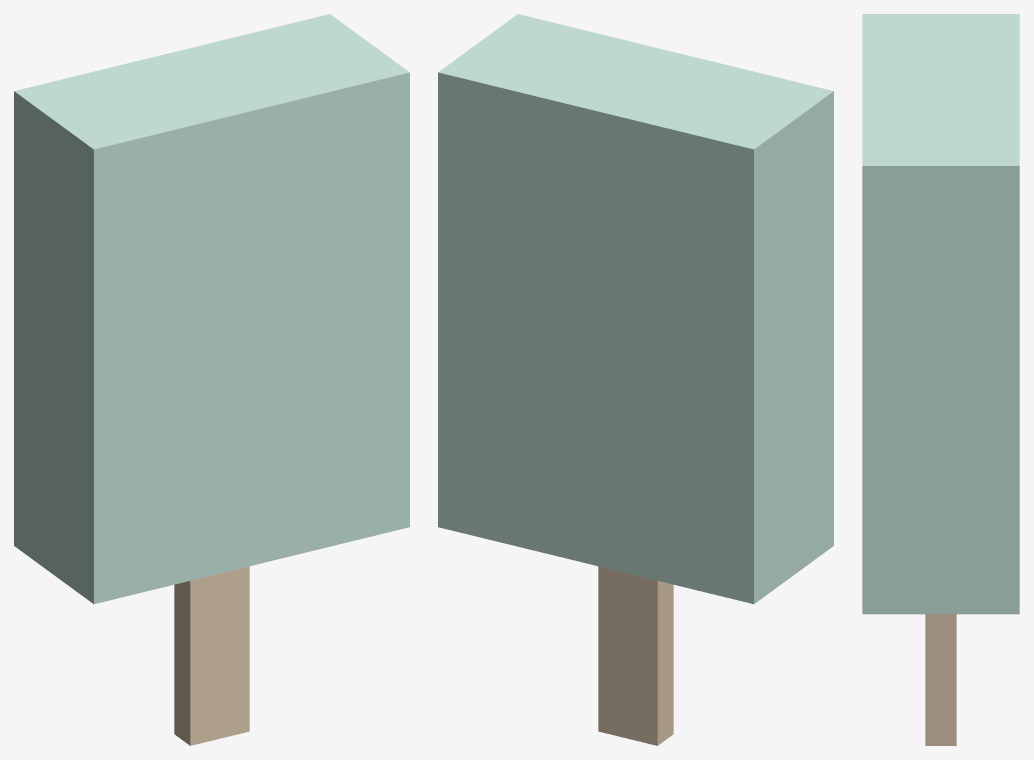
Rendered from popsicle.glb.
The picture shows the model from 3 angles, left to right: view 1: azimuth 30°, elevation 25°; view 2: azimuth 150°, elevation 25°; view 3: azimuth 270°, elevation 25°; orthographic projection.
Parts seen in each view (by area): view 1: popsicle; view 2: popsicle; view 3: popsicle.
Part boxes in pixels (<box>): popsicle: <box>14,14,409,745</box>; popsicle: <box>438,14,833,745</box>; popsicle: <box>862,14,1019,745</box>.
Size of the model in its own units: 1.6 by 3.15 by 0.7.
